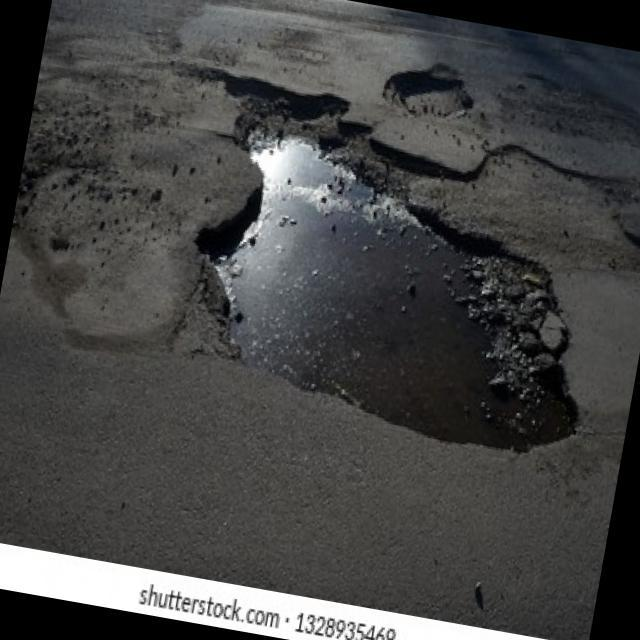Pothole: (141, 65, 634, 469), (376, 52, 480, 127)
